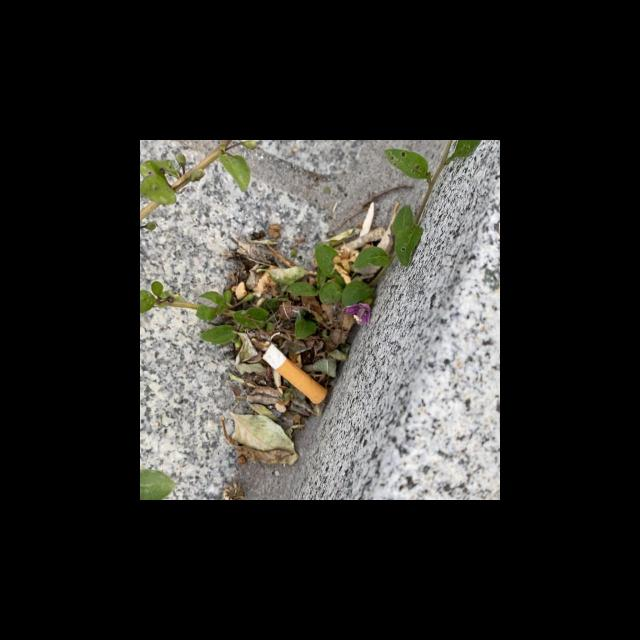cigarette: (262, 343, 328, 405)
